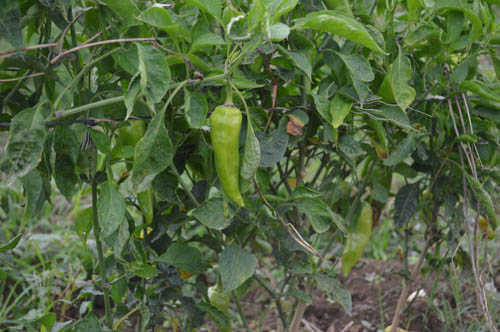ChiliPepper: (210, 106, 245, 211), (122, 120, 155, 221), (340, 204, 374, 278)
